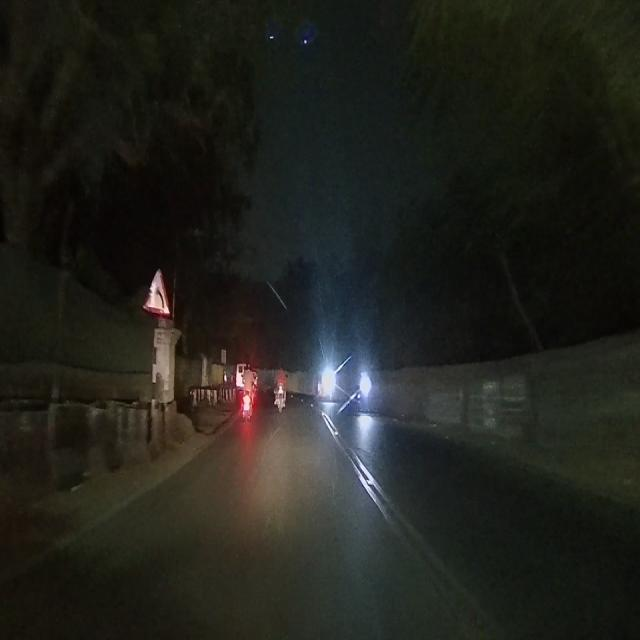left-hand-curve: (148, 264, 168, 310)
